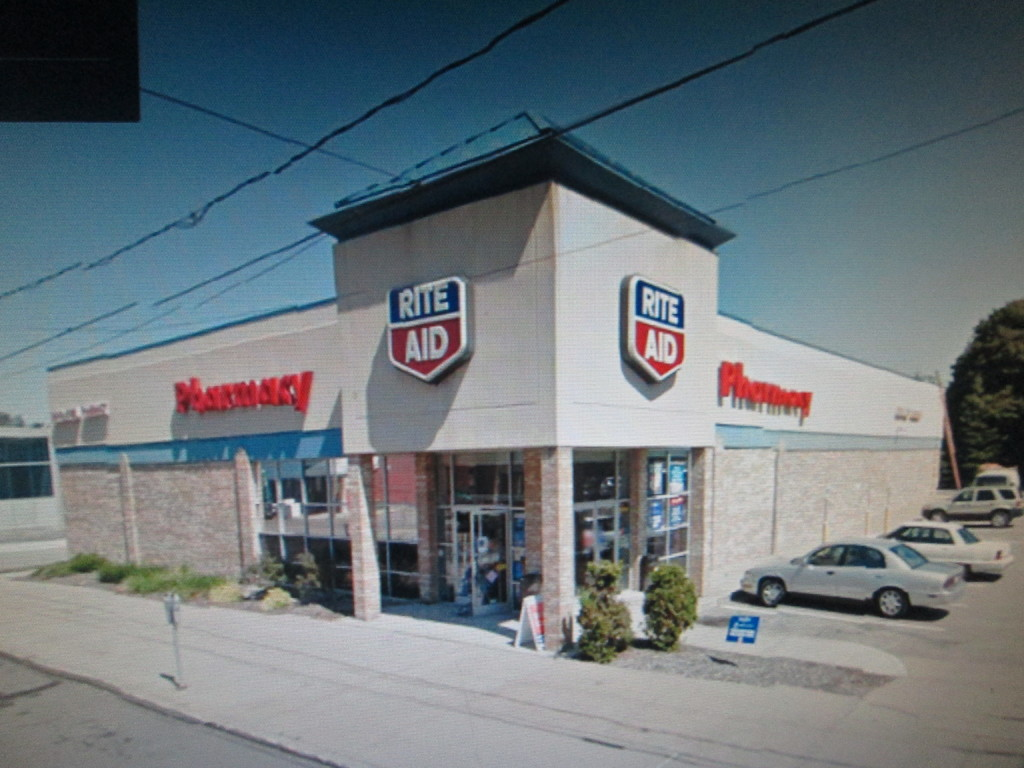car: (724, 521, 977, 636), (866, 499, 1024, 592), (921, 470, 1024, 534)
